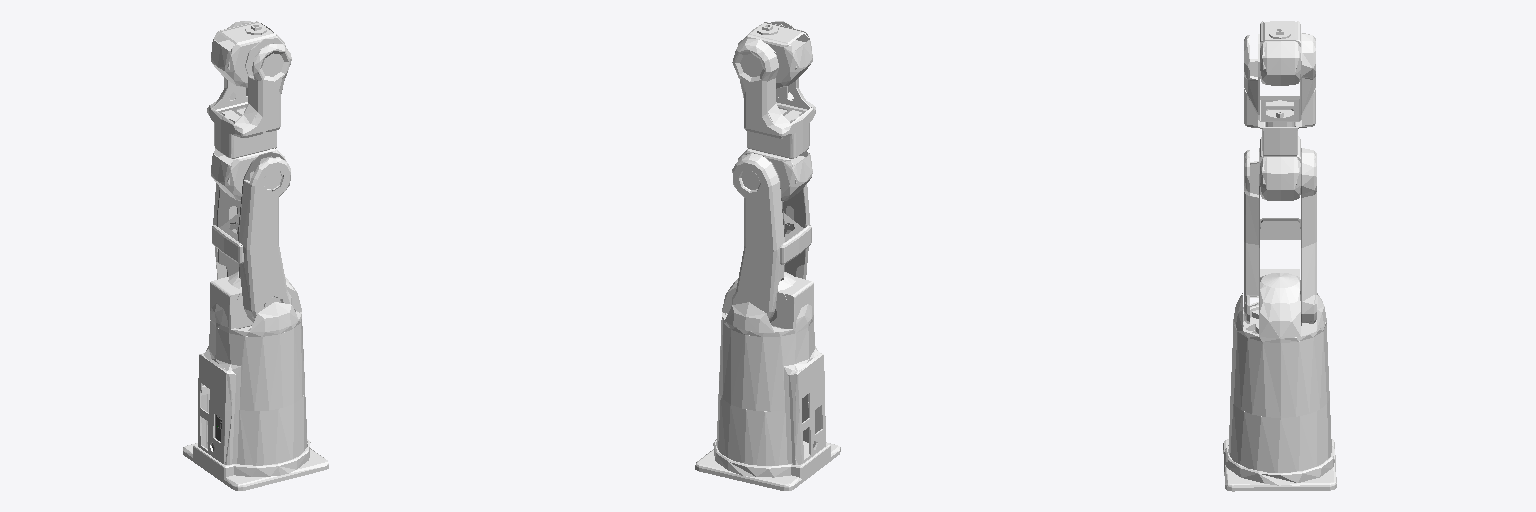
The robot description file, URDF, robot "ve026a":
<?xml version="1.0" encoding="UTF-8"?>
<robot name="ve026a">
	<gazebo>
		<plugin name="gazebo_ros_control" filename="libgazebo_ros_control.so">
			<robotNamespace>/ve026a</robotNamespace>
		</plugin>
	</gazebo>
	<link name="world"/>
	<joint name="joint_w" type="fixed">
		<parent link="world"/>
		<child link="base_link"/>
	</joint>
	<link name="base_link">
		<visual>
			<origin rpy="0 0 0" xyz="0 0 0"/>
			<geometry>
				<mesh filename="package://ve026a_description/base_link.dae" scale="1 1 1"/>
			</geometry>
		</visual>
		<collision>
			<origin rpy="0 0 0" xyz="0 0 0"/>
			<geometry>
				<mesh filename="package://ve026a_description/base_link.dae" scale="1 1 1"/>
			</geometry>
		</collision>
		<inertial>
			<mass value="1"/>
			<origin rpy="0.000000 0.000000 0.000000" xyz="0.000000 0.000000 0.000000"/>
			<inertia ixx="1" ixy="0" ixz="0" iyy="1" iyz="0" izz="1"/>
		</inertial>
	</link>
	<link name="J1">
		<visual>
			<origin rpy="0 0 0" xyz="0 0 0"/>
			<geometry>
				<mesh filename="package://ve026a_description/J1.dae" scale="1 1 1"/>
			</geometry>
		</visual>
		<collision>
			<origin rpy="0 0 0" xyz="0 0 0"/>
			<geometry>
				<mesh filename="package://ve026a_description/J1.dae" scale="1 1 1"/>
			</geometry>
		</collision>
		<inertial>
			<mass value="1"/>
			<origin rpy="0.000000 0.000000 0.000000" xyz="0.000000 0.000000 0.000000"/>
			<inertia ixx="1" ixy="0" ixz="0" iyy="1" iyz="0" izz="1"/>
		</inertial>
	</link>
	<joint name="joint_1" type="revolute">
		<parent link="base_link"/>
		<child link="J1"/>
		<origin rpy="0.000000 0.000000 0.000000" xyz="0.000000 0.000000 0.000000"/>
		<axis xyz="-0.000000 -0.000000 1.000000"/>
		<limit effort="1" lower="-1.396263" upper="1.832596" velocity="1"/>
		<dynamics damping="0" friction="0"/>
	</joint>
	<transmission name="trans_1">
		<type>transmission_interface/SimpleTransmission</type>
		<joint name="joint_1">
			<hardwareInterface>PositionJointInterface</hardwareInterface>
		</joint>
		<actuator name="motor_1">
			<hardwareInterface>PositionJointInterface</hardwareInterface>
			<mechanicalReduction>1</mechanicalReduction>
		</actuator>
	</transmission>
	<link name="J2">
		<visual>
			<origin rpy="0 0 0" xyz="0 0 0"/>
			<geometry>
				<mesh filename="package://ve026a_description/J2.dae" scale="1 1 1"/>
			</geometry>
		</visual>
		<collision>
			<origin rpy="0 0 0" xyz="0 0 0"/>
			<geometry>
				<mesh filename="package://ve026a_description/J2.dae" scale="1 1 1"/>
			</geometry>
		</collision>
		<inertial>
			<mass value="1"/>
			<origin rpy="0.000000 0.000000 0.000000" xyz="0.000000 0.000000 0.000000"/>
			<inertia ixx="1" ixy="0" ixz="0" iyy="1" iyz="0" izz="1"/>
		</inertial>
	</link>
	<joint name="joint_2" type="revolute">
		<parent link="J1"/>
		<child link="J2"/>
		<origin rpy="0.000000 0.000000 0.000000" xyz="0.000000 0.000000 0.130000"/>
		<axis xyz="-0.000000 1.000000 -0.000000"/>
		<limit effort="1" lower="-0.6108652" upper="1.570796" velocity="1"/>
		<dynamics damping="0" friction="0"/>
	</joint>
	<transmission name="trans_2">
		<type>transmission_interface/SimpleTransmission</type>
		<joint name="joint_2">
			<hardwareInterface>PositionJointInterface</hardwareInterface>
		</joint>
		<actuator name="motor_2">
			<hardwareInterface>PositionJointInterface</hardwareInterface>
			<mechanicalReduction>1</mechanicalReduction>
		</actuator>
	</transmission>
	<link name="J3">
		<visual>
			<origin rpy="0 0 0" xyz="0 0 0"/>
			<geometry>
				<mesh filename="package://ve026a_description/J3.dae" scale="1 1 1"/>
			</geometry>
		</visual>
		<collision>
			<origin rpy="0 0 0" xyz="0 0 0"/>
			<geometry>
				<mesh filename="package://ve026a_description/J3.dae" scale="1 1 1"/>
			</geometry>
		</collision>
		<inertial>
			<mass value="1"/>
			<origin rpy="0.000000 0.000000 0.000000" xyz="0.000000 0.000000 0.000000"/>
			<inertia ixx="1" ixy="0" ixz="0" iyy="1" iyz="0" izz="1"/>
		</inertial>
	</link>
	<joint name="joint_3" type="revolute">
		<parent link="J2"/>
		<child link="J3"/>
		<origin rpy="0.000000 0.000000 0.000000" xyz="0.000000 0.000000 0.100000"/>
		<axis xyz="-0.000000 1.000000 -0.000000"/>
		<limit effort="1" lower="-1.308997" upper="2.356194" velocity="1"/>
		<dynamics damping="0" friction="0"/>
	</joint>
	<transmission name="trans_3">
		<type>transmission_interface/SimpleTransmission</type>
		<joint name="joint_3">
			<hardwareInterface>PositionJointInterface</hardwareInterface>
		</joint>
		<actuator name="motor_3">
			<hardwareInterface>PositionJointInterface</hardwareInterface>
			<mechanicalReduction>1</mechanicalReduction>
		</actuator>
	</transmission>
	<link name="J4">
		<visual>
			<origin rpy="0 0 0" xyz="0 0 0"/>
			<geometry>
				<mesh filename="package://ve026a_description/J4.dae" scale="1 1 1"/>
			</geometry>
		</visual>
		<collision>
			<origin rpy="0 0 0" xyz="0 0 0"/>
			<geometry>
				<mesh filename="package://ve026a_description/J4.dae" scale="1 1 1"/>
			</geometry>
		</collision>
		<inertial>
			<mass value="1"/>
			<origin rpy="0.000000 0.000000 0.000000" xyz="0.000000 0.000000 0.000000"/>
			<inertia ixx="1" ixy="0" ixz="0" iyy="1" iyz="0" izz="1"/>
		</inertial>
	</link>
	<joint name="joint_4" type="revolute">
		<parent link="J3"/>
		<child link="J4"/>
		<origin rpy="0.000000 0.000000 0.000000" xyz="0.000000 0.000000 -0.230000"/>
		<axis xyz="-0.000000 -0.000000 1.000000"/>
		<limit effort="1" lower="-2.443461" upper="2.443461" velocity="1"/>
		<dynamics damping="0" friction="0"/>
	</joint>
	<transmission name="trans_4">
		<type>transmission_interface/SimpleTransmission</type>
		<joint name="joint_4">
			<hardwareInterface>PositionJointInterface</hardwareInterface>
		</joint>
		<actuator name="motor_4">
			<hardwareInterface>PositionJointInterface</hardwareInterface>
			<mechanicalReduction>1</mechanicalReduction>
		</actuator>
	</transmission>
	<link name="J5">
		<visual>
			<origin rpy="0 0 0" xyz="0 0 0"/>
			<geometry>
				<mesh filename="package://ve026a_description/J5.dae" scale="1 1 1"/>
			</geometry>
		</visual>
		<collision>
			<origin rpy="0 0 0" xyz="0 0 0"/>
			<geometry>
				<mesh filename="package://ve026a_description/J5.dae" scale="1 1 1"/>
			</geometry>
		</collision>
		<inertial>
			<mass value="1"/>
			<origin rpy="0.000000 0.000000 0.000000" xyz="0.000000 0.000000 0.000000"/>
			<inertia ixx="1" ixy="0" ixz="0" iyy="1" iyz="0" izz="1"/>
		</inertial>
	</link>
	<joint name="joint_5" type="revolute">
		<parent link="J4"/>
		<child link="J5"/>
		<origin rpy="0.000000 0.000000 0.000000" xyz="0.000000 0.000000 0.320000"/>
		<axis xyz="-0.000000 1.000000 -0.000000"/>
		<limit effort="1" lower="-1.570796" upper="1.832596" velocity="1"/>
		<dynamics damping="0" friction="0"/>
	</joint>
	<transmission name="trans_5">
		<type>transmission_interface/SimpleTransmission</type>
		<joint name="joint_5">
			<hardwareInterface>PositionJointInterface</hardwareInterface>
		</joint>
		<actuator name="motor_5">
			<hardwareInterface>PositionJointInterface</hardwareInterface>
			<mechanicalReduction>1</mechanicalReduction>
		</actuator>
	</transmission>
	<link name="J6">
		<visual>
			<origin rpy="0 0 0" xyz="0 0 0"/>
			<geometry>
				<mesh filename="package://ve026a_description/J6.dae" scale="1 1 1"/>
			</geometry>
		</visual>
		<collision>
			<origin rpy="0 0 0" xyz="0 0 0"/>
			<geometry>
				<mesh filename="package://ve026a_description/J6.dae" scale="1 1 1"/>
			</geometry>
		</collision>
		<inertial>
			<mass value="1"/>
			<origin rpy="0.000000 0.000000 0.000000" xyz="0.000000 0.000000 0.000000"/>
			<inertia ixx="1" ixy="0" ixz="0" iyy="1" iyz="0" izz="1"/>
		</inertial>
	</link>
	<joint name="joint_6" type="revolute">
		<parent link="J5"/>
		<child link="J6"/>
		<!--origin rpy="0.000000 0.000000 0.000000" xyz="0.000000 0.000000 -0.320000"/--> <!-- wincaps3's bag? -->
		<origin rpy="0.000000 0.000000 0.000000" xyz="0.000000 0.000000 0.088"/> <!-- End effector tip position -->
		<!--axis xyz="0.000000 0.000000 0.000000"/-->
		<axis xyz="0.000000 0.000000 1.000000"/>
		<limit effort="1" lower="-2.443461" upper="2.443461" velocity="1"/>
		<dynamics damping="0" friction="0"/>
	</joint>
	<transmission name="trans_6">
		<type>transmission_interface/SimpleTransmission</type>
		<joint name="joint_6">
			<hardwareInterface>PositionJointInterface</hardwareInterface>
		</joint>
		<actuator name="motor_6">
			<hardwareInterface>PositionJointInterface</hardwareInterface>
			<mechanicalReduction>1</mechanicalReduction>
		</actuator>
	</transmission>
</robot>

--- Render facts (derived) ---
The picture shows the robot from 3 angles, left to right: view 1: azimuth 30°, elevation 25°; view 2: azimuth 150°, elevation 25°; view 3: azimuth 270°, elevation 25°; orthographic projection.
Robot: ve026a — 8 links, 7 joints (6 revolute, 1 fixed); root link world; default pose: every joint at zero.
Visible links, largest first — view 1: base_link, J2, J4, J1, J5, J3; view 2: base_link, J2, J4, J1, J5, J3; view 3: base_link, J2, J4, J1, J5, J3.
Link boxes in pixels (x1,y1,x2,y2): base_link: [183, 309, 328, 490]; J2: [212, 152, 291, 322]; J4: [207, 21, 291, 158]; J1: [210, 271, 301, 336]; J5: [211, 21, 285, 87]; J3: [211, 148, 285, 200]; base_link: [695, 313, 840, 490]; J2: [732, 152, 811, 322]; J4: [732, 21, 815, 158]; J1: [722, 272, 813, 336]; J5: [738, 22, 812, 88]; J3: [738, 149, 812, 201]; base_link: [1223, 305, 1336, 491]; J2: [1244, 148, 1316, 325]; J4: [1244, 33, 1315, 155]; J1: [1233, 269, 1326, 342]; J5: [1260, 21, 1300, 85]; J3: [1260, 136, 1300, 200].
Bounding box of the posed robot: 0.0803 × 0.0803 × 0.3411 m (x, y, z).
Meshes: 7 distinct files referenced, 6 mesh visuals loaded (6 Collada DAE); not drawn: 1 (file found but could not be loaded).
